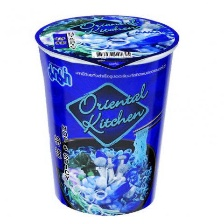paper_cup: (29, 10, 182, 221)
